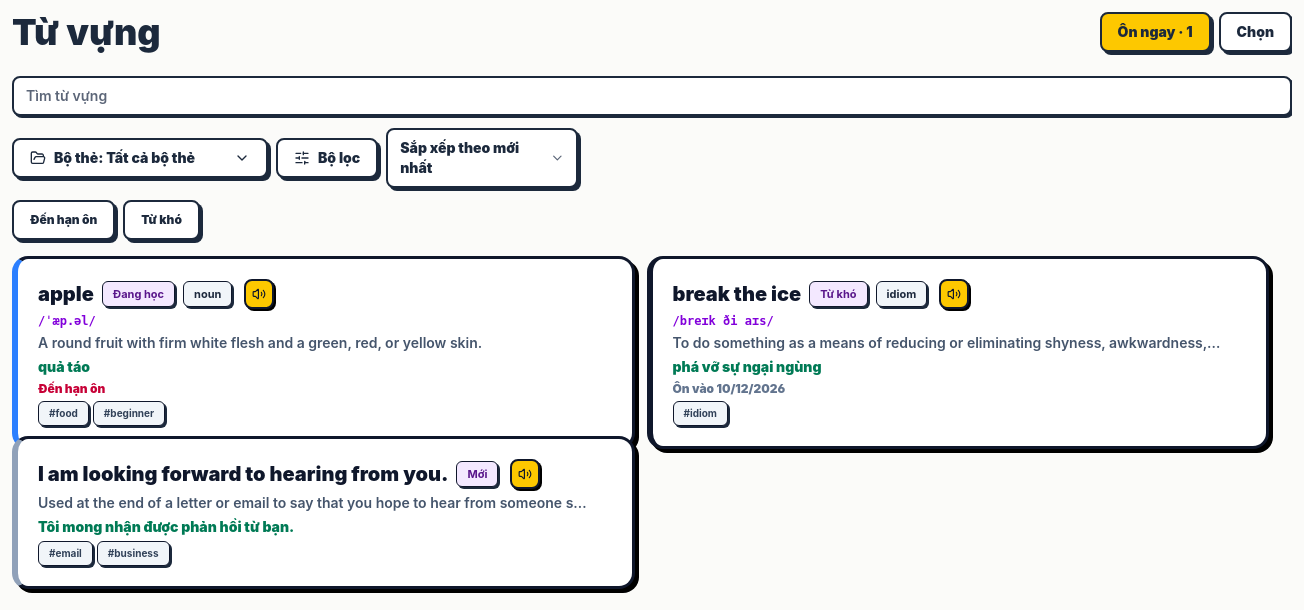
Test case: VocabularyListPage learner flows › có lối tắt lọc từ khó và hiển thị số từ cần ôn
Click the button "Từ khó".
click(162, 220)  # box [123,200,200,240]
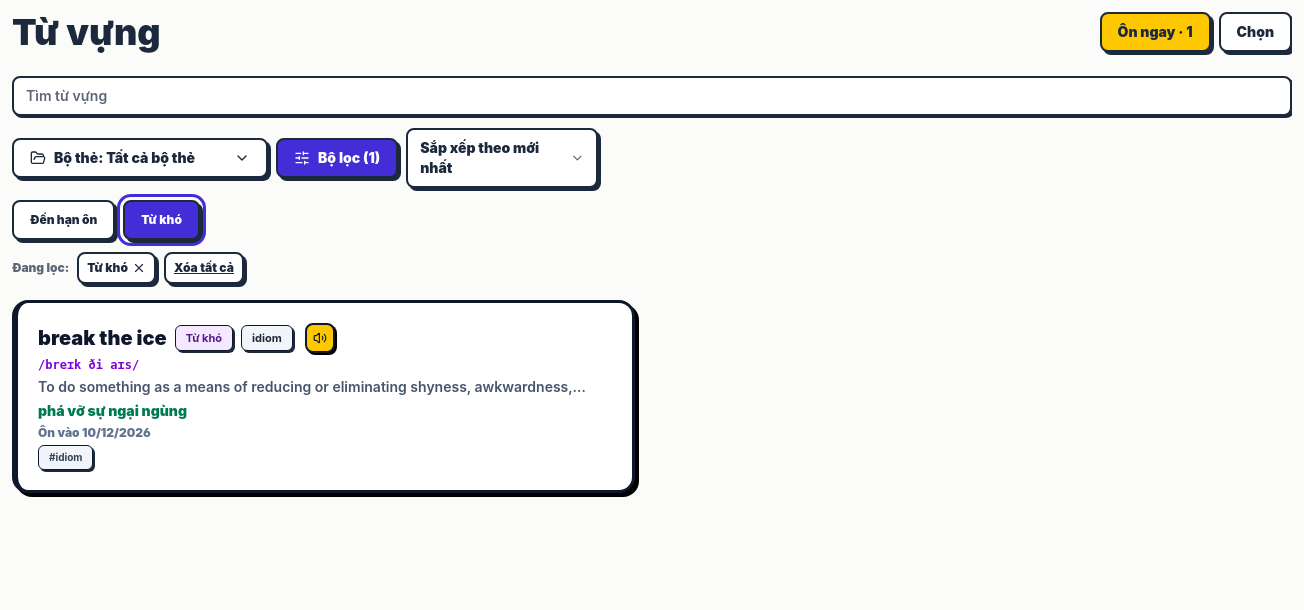
Expected: the link "break the ice" is shown, [38,324,167,352]
Expected: the link "apple" is gone
